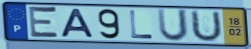9: (97, 8, 122, 40)
A: (58, 8, 97, 40)
E: (28, 4, 62, 41)
L: (128, 9, 155, 40)
U: (155, 8, 189, 44), (190, 9, 224, 43)
